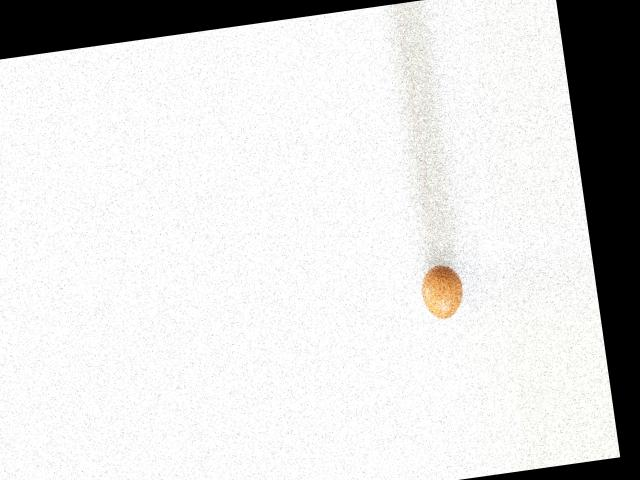egg: (419, 261, 467, 321)
